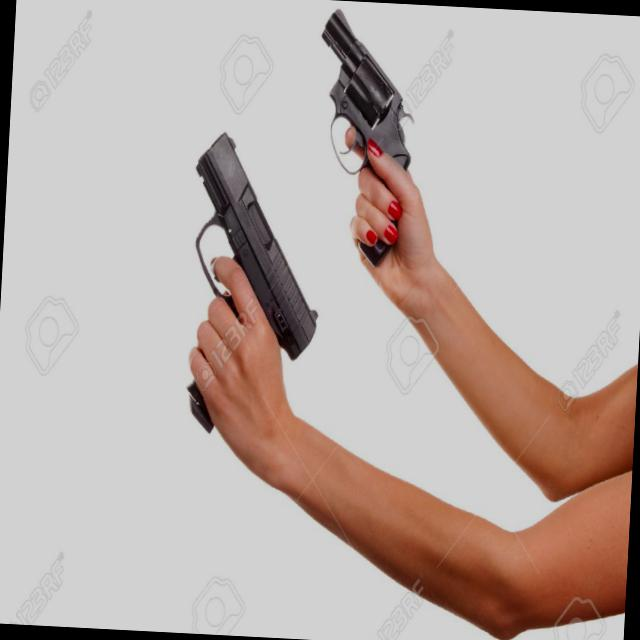handgun: (170, 128, 328, 445), (308, 6, 418, 271)
